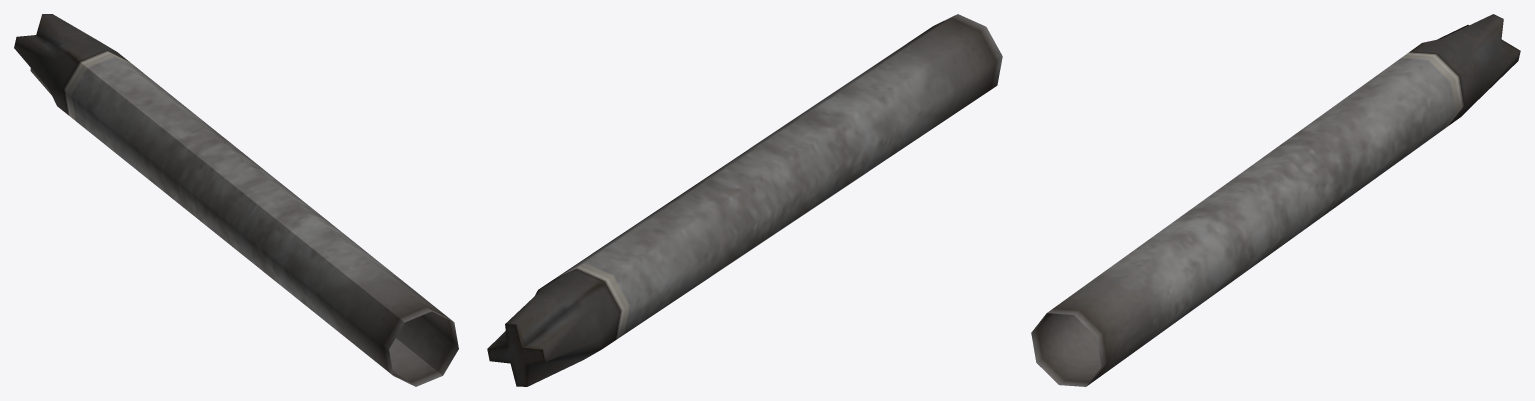
Rendered from Screwdriver_S_Shaft_low_1.obj.
The picture shows the model from 3 angles, left to right: view 1: azimuth 30°, elevation 25°; view 2: azimuth 150°, elevation 25°; view 3: azimuth 330°, elevation 25°; orthographic projection. The views are drawn at different scales.
Bounding box in the file's own units: 0.00504 × 0.00474 × 0.042.
Materials: 1 (1 with a texture image).
